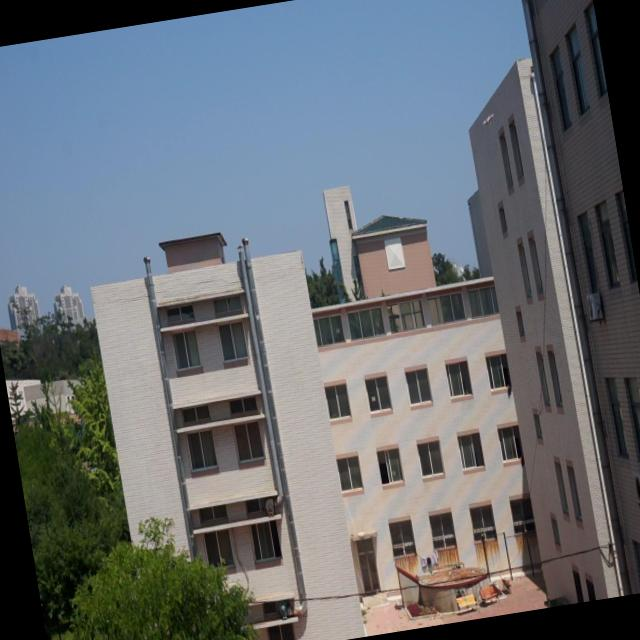drone: (476, 110, 498, 132)
